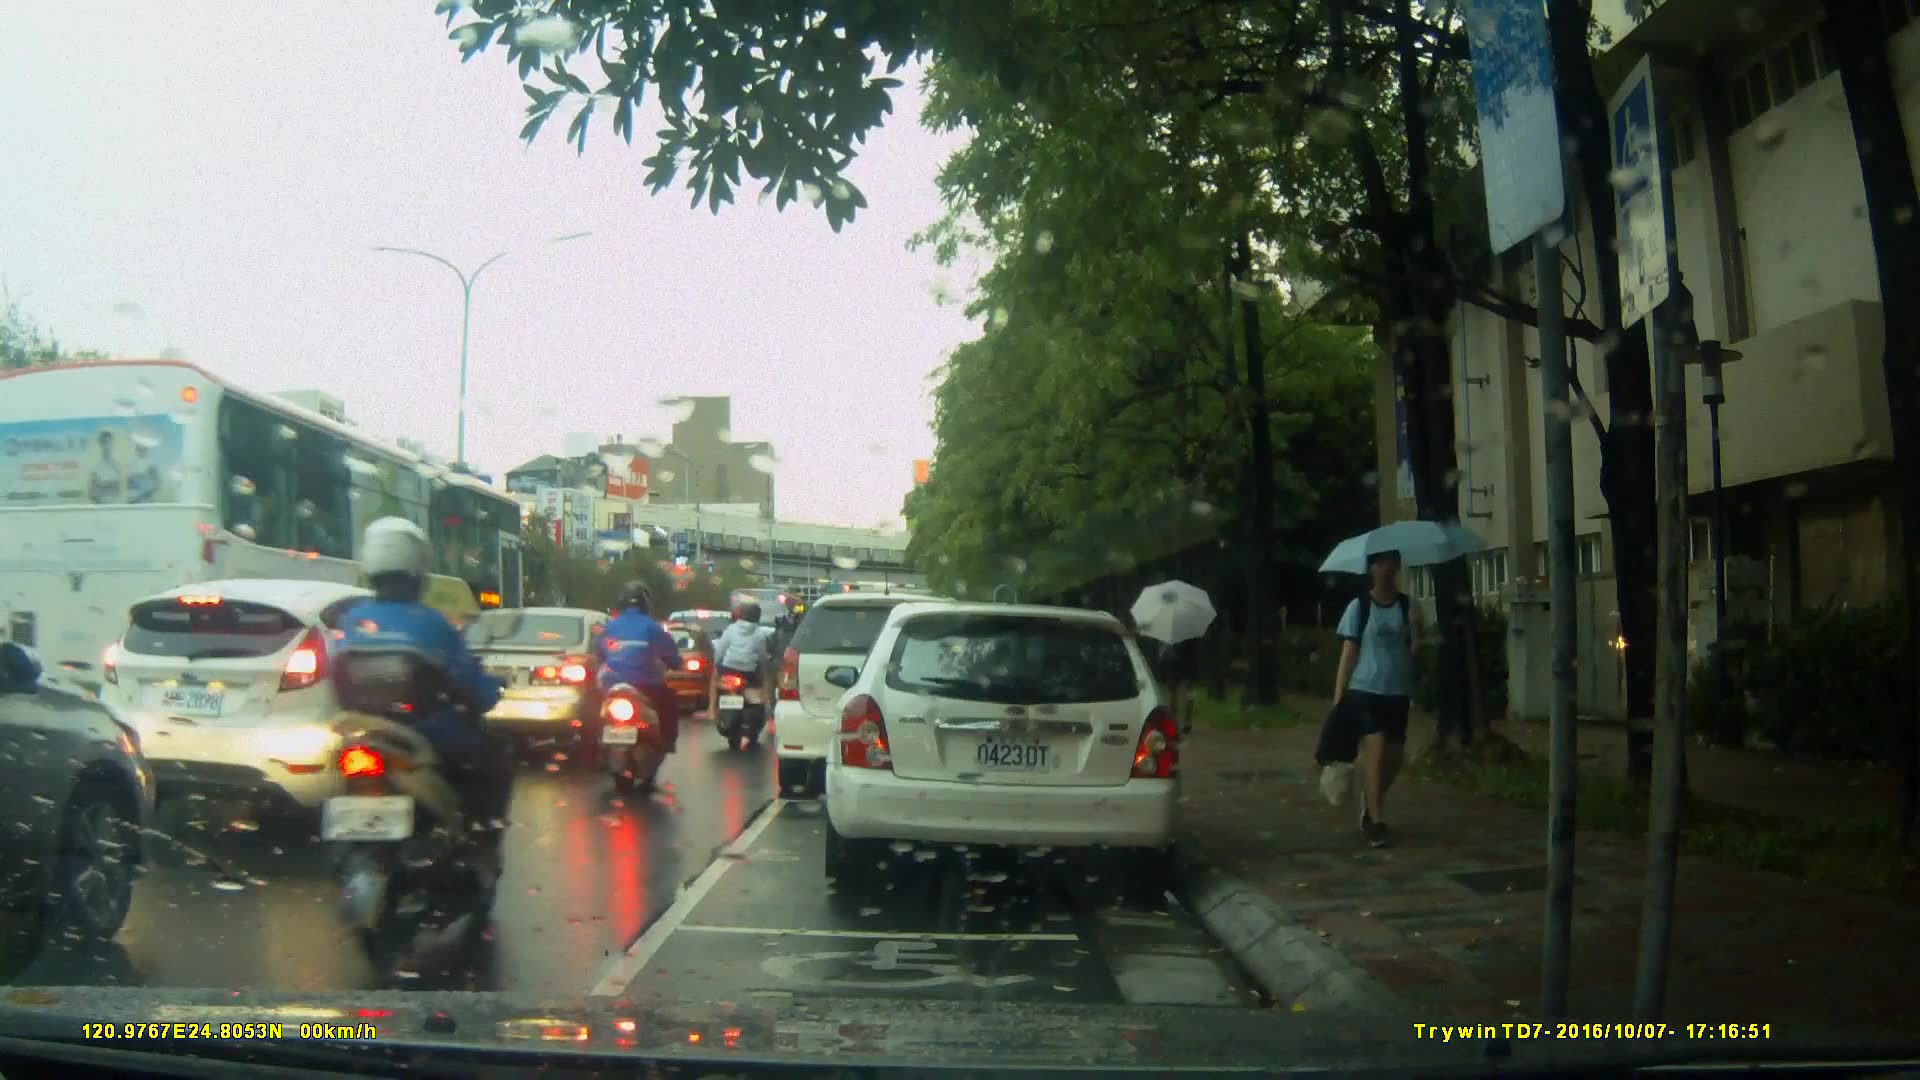pedestrian: (1320, 542, 1462, 843), (1152, 611, 1203, 734)
rider: (308, 497, 512, 972), (598, 583, 683, 787), (719, 596, 785, 759)
vehicle: (1, 354, 539, 765), (835, 594, 1194, 898), (91, 576, 485, 846), (776, 590, 1026, 784), (413, 604, 660, 754), (610, 619, 727, 719)
